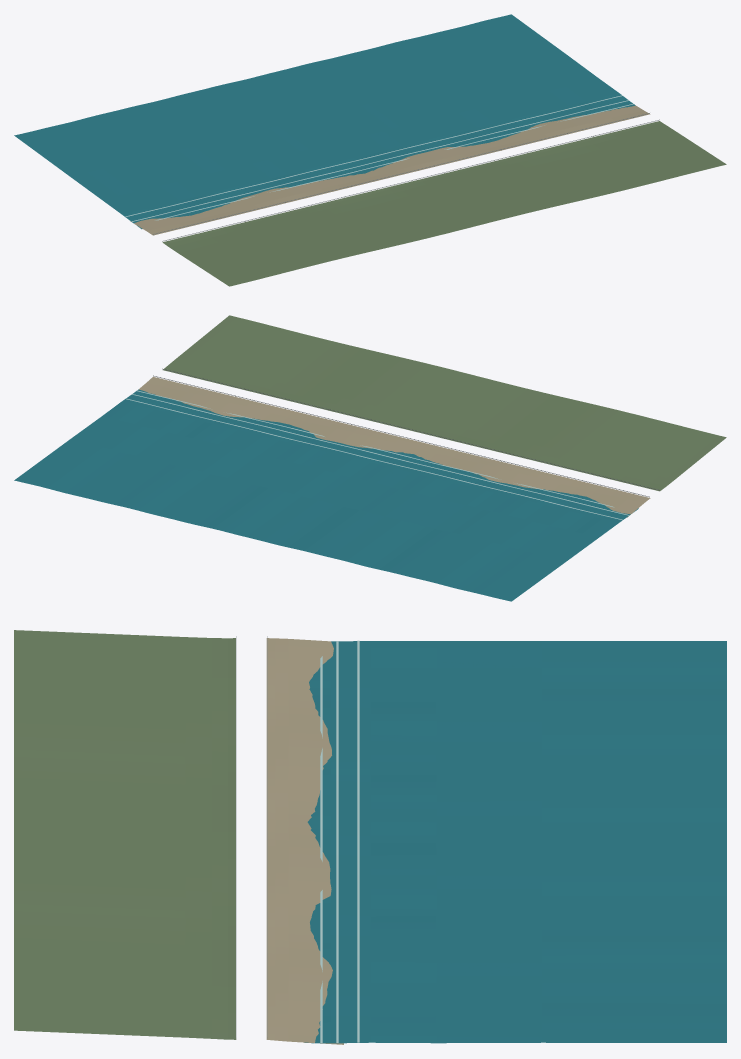
The model's file is coastal-stage.glb.
3 views of the same model, one above another, from view 1: azimuth 30°, elevation 25°; view 2: azimuth 150°, elevation 25°; view 3: azimuth 270°, elevation 25° (orthographic). The views are drawn at different scales.
Parts seen in each view (by area): view 1: Three dimensional ocean, Roadside terrain, Sculpted shoreline, Surf ridge, Continuous steel guardrail; view 2: Three dimensional ocean, Roadside terrain, Sculpted shoreline, Surf ridge, Continuous steel guardrail; view 3: Three dimensional ocean, Roadside terrain, Sculpted shoreline, Surf ridge, Continuous steel guardrail.
Part boxes in pixels (box(x1,y1,x2,y2)): Three dimensional ocean: box(14, 14, 635, 229); Roadside terrain: box(162, 121, 726, 286); Sculpted shoreline: box(130, 105, 650, 235); Surf ridge: box(125, 95, 633, 225); Continuous steel guardrail: box(153, 113, 659, 241); Three dimensional ocean: box(14, 389, 638, 601); Roadside terrain: box(163, 315, 726, 491); Sculpted shoreline: box(139, 377, 650, 517); Surf ridge: box(125, 390, 629, 520); Continuous steel guardrail: box(153, 368, 659, 497); Three dimensional ocean: box(304, 641, 726, 1043); Roadside terrain: box(14, 630, 236, 1039); Sculpted shoreline: box(266, 638, 343, 1044); Surf ridge: box(320, 640, 359, 1042); Continuous steel guardrail: box(236, 636, 267, 1038).
Size of the model in its own units: 360 by 5.96 by 270.
